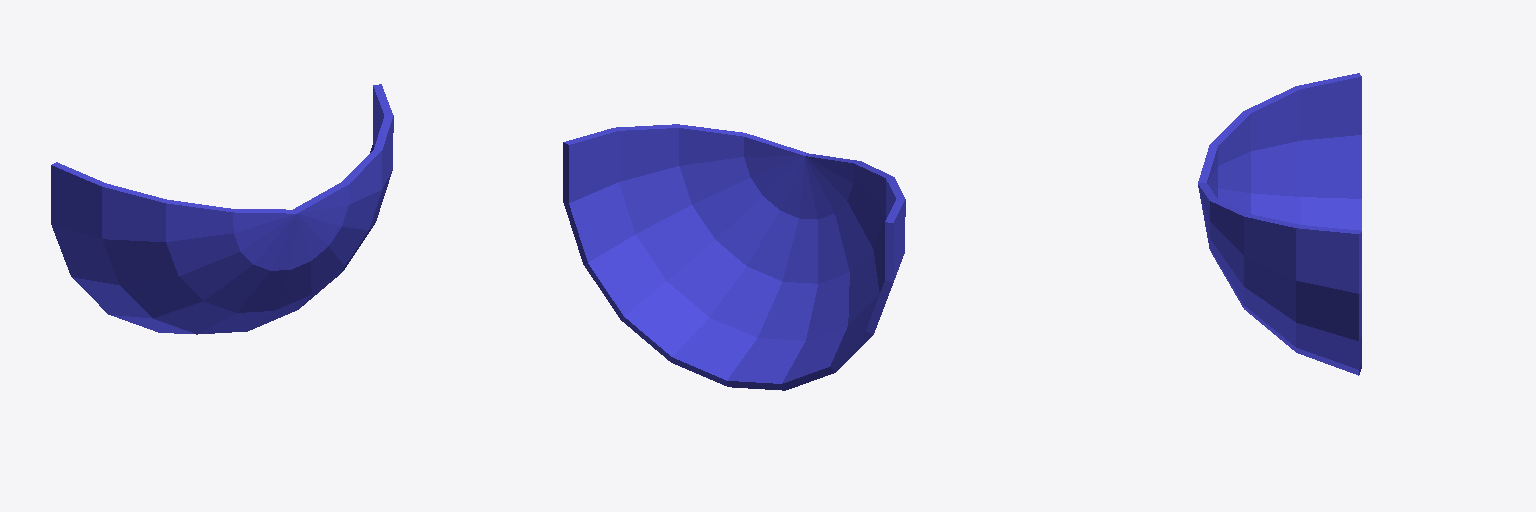
The model's file is light_low.obj.
3 views of the same model, side by side, from view 1: azimuth 30°, elevation 25°; view 2: azimuth 150°, elevation 25°; view 3: azimuth 270°, elevation 25° (orthographic).
Parts seen in each view (by area): view 1: Sphere001; view 2: Sphere001; view 3: Sphere001.
Part boxes in pixels (x1,y1,x2,y2): Sphere001: (51,84,393,334); Sphere001: (563,124,905,390); Sphere001: (1198,73,1361,375).
Bounding box in the file's own units: 42.4 × 25.08 × 18.26.